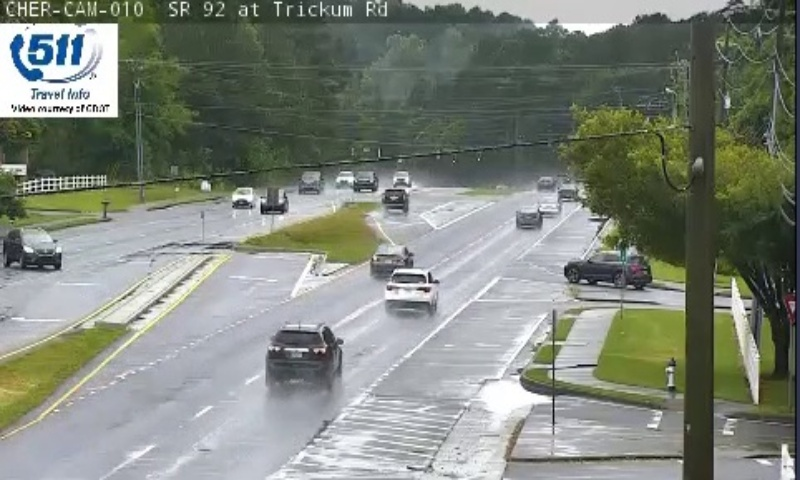car: (265, 323, 341, 378), (385, 267, 436, 306), (371, 243, 413, 276), (516, 206, 541, 229), (383, 189, 404, 209)
